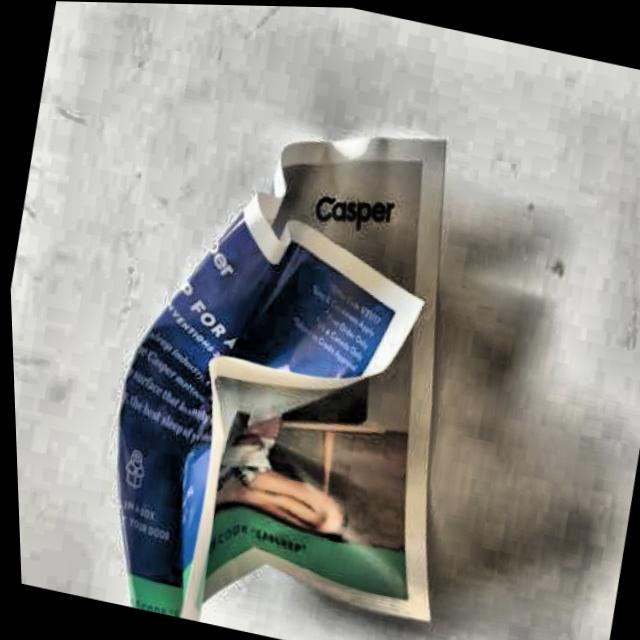Paper: (47, 77, 523, 640)
